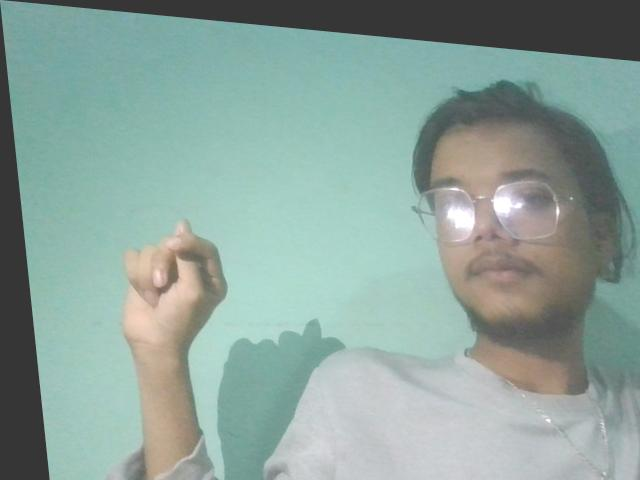Washroom: (92, 198, 239, 377)
